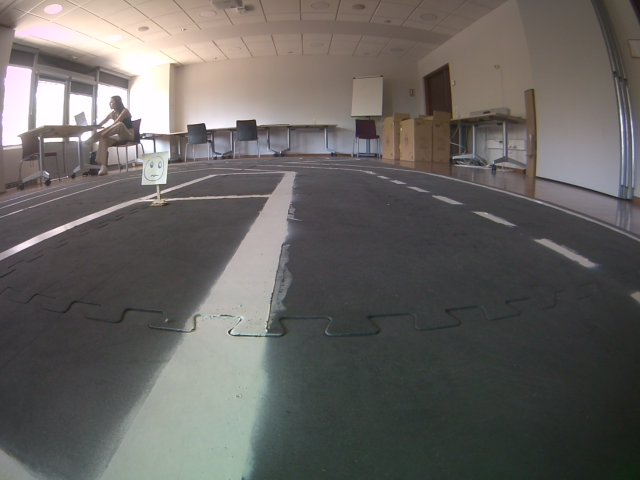Smiley: (139, 150, 170, 186)
